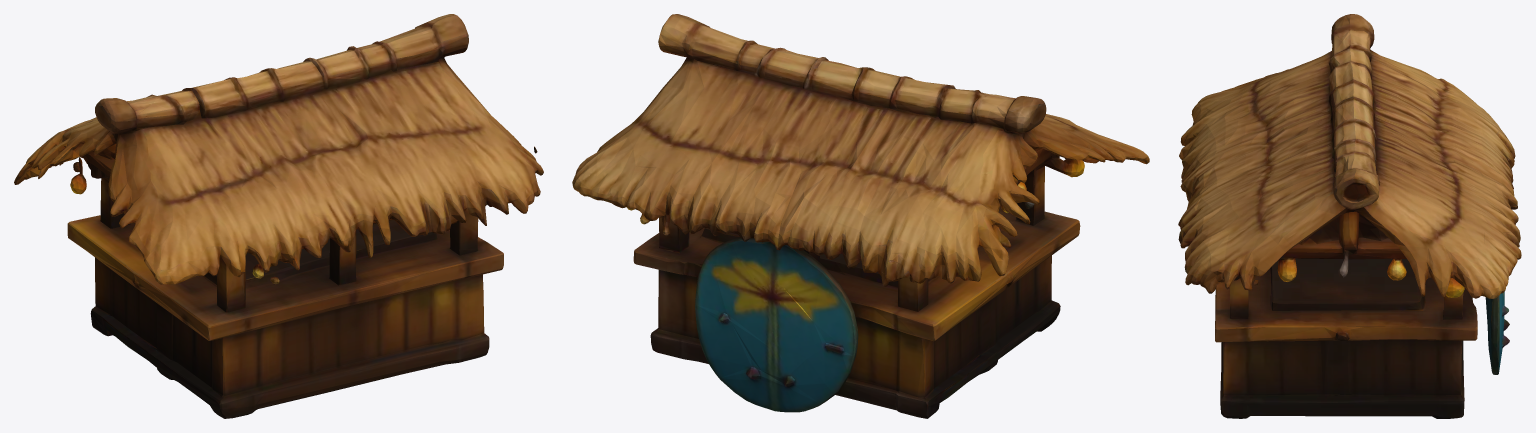
3 views of the same model, side by side, from view 1: azimuth 30°, elevation 25°; view 2: azimuth 150°, elevation 25°; view 3: azimuth 270°, elevation 25° (orthographic). The views are drawn at different scales.
Visible parts, largest first — view 1: world; view 2: world; view 3: world.
Boxes of the visible parts, x1,y1,x2,y2 form: world: [14, 14, 543, 418]; world: [572, 14, 1149, 418]; world: [1178, 14, 1521, 418].
Bounding box in the file's own units: 1 × 0.6713 × 0.77.
1 material, 1 textured.
